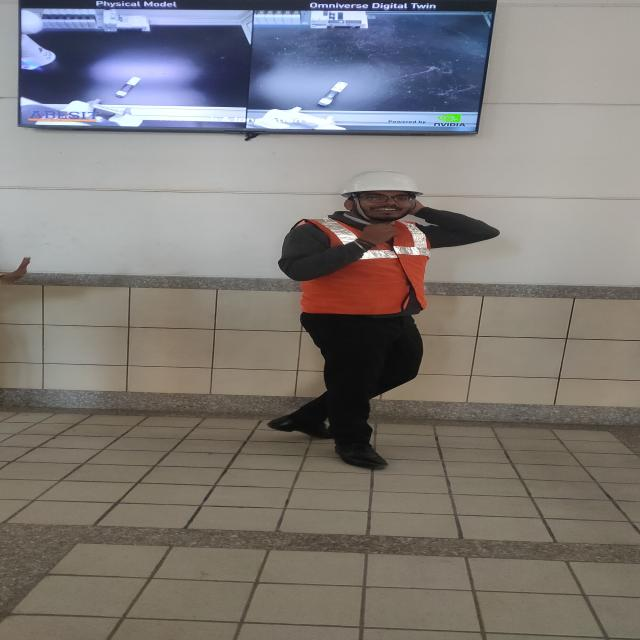safe: (268, 169, 500, 467)
